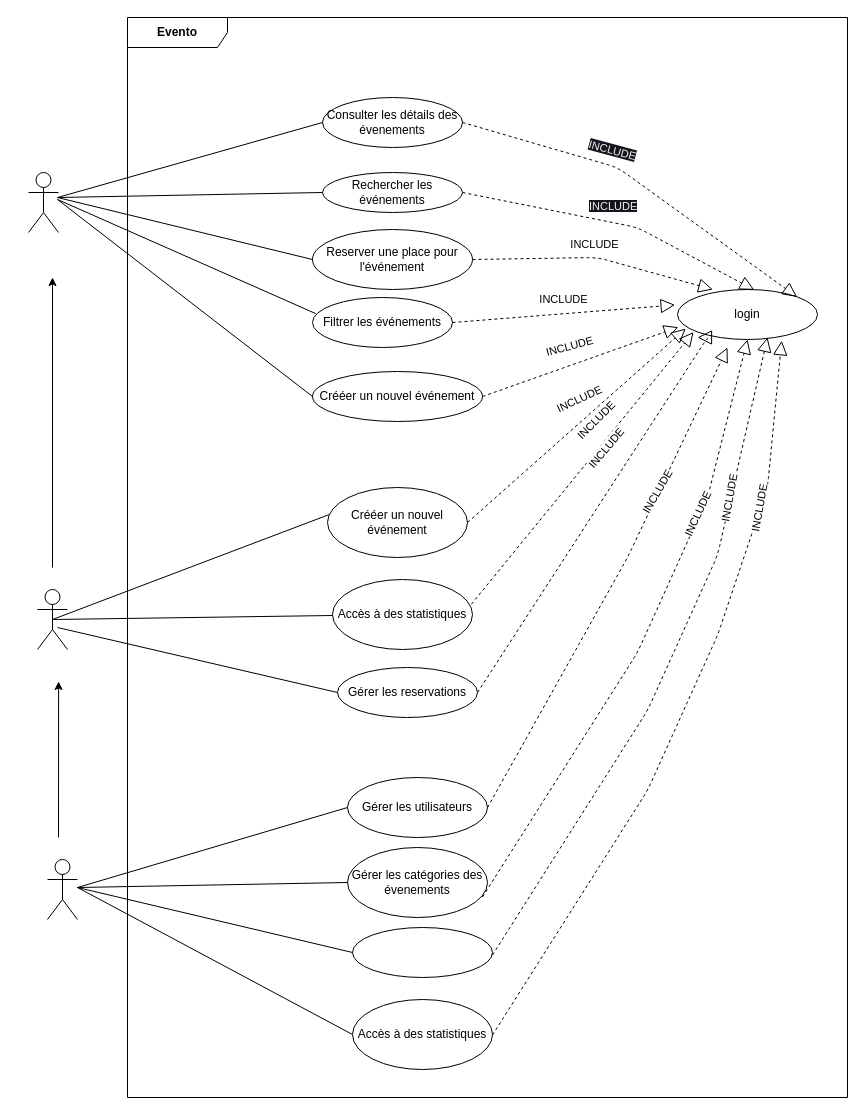
The diagram is 865 pixels wide and 1115 high, and some of its shapes have lost their labels. Here are the shapes that lost their labels. From the top down, the centre of each, then its label:
the point at 43,202: Utilisateur
the point at 52,619: Organisateur
the point at 62,889: Admin
the point at 422,952: Valider les évenemnts créés
